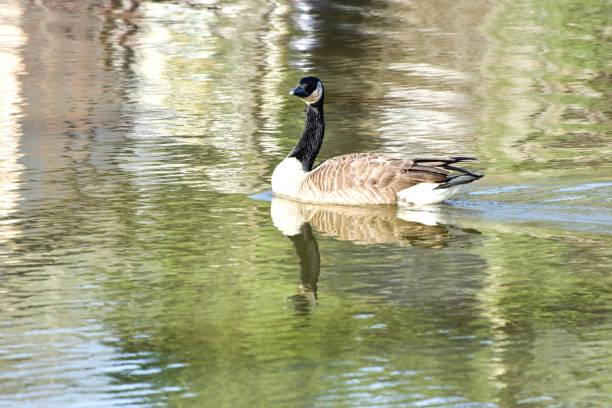Canadian-Goose: (263, 77, 483, 203)
